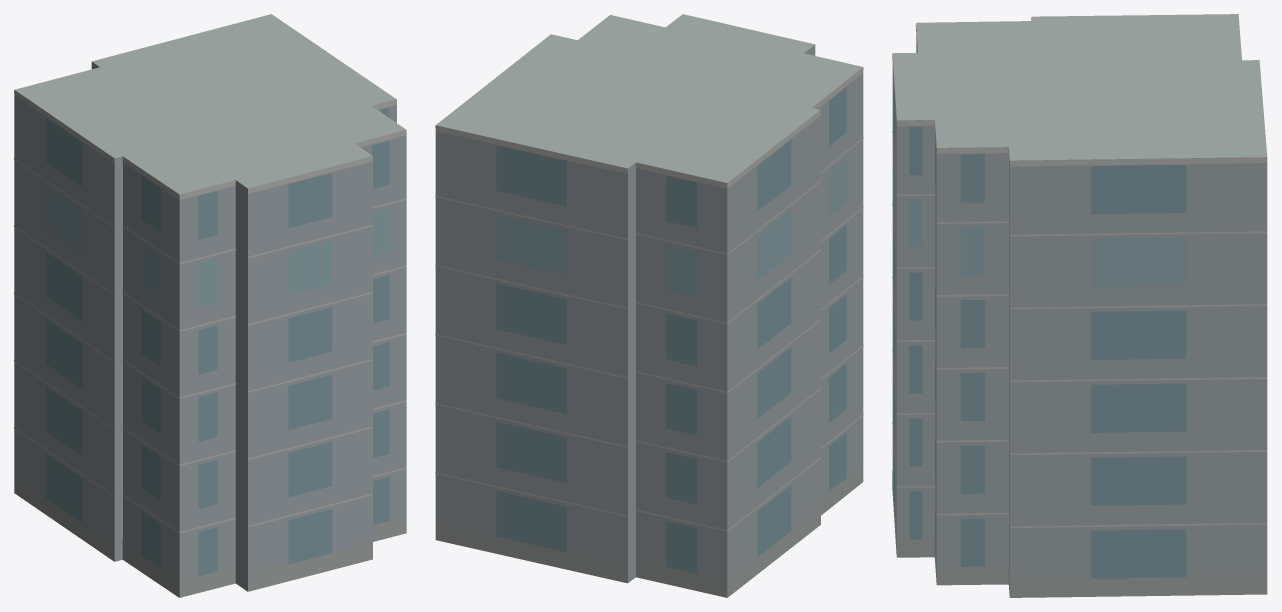
File: survey-upis-32639070.glb
The picture shows the model from 3 angles, left to right: view 1: azimuth 30°, elevation 25°; view 2: azimuth 150°, elevation 25°; view 3: azimuth 270°, elevation 25°; orthographic projection. The views are drawn at different scales.
Parts seen in each view (by area): view 1: survey-upis-32639070.tmp; view 2: survey-upis-32639070.tmp; view 3: survey-upis-32639070.tmp.
Boxes of the visible parts, x1,y1,x2,y2 form: survey-upis-32639070.tmp: (14,14,406,597); survey-upis-32639070.tmp: (435,14,863,597); survey-upis-32639070.tmp: (892,14,1267,597).
Size of the model in its own units: 12.82 by 17.8 by 13.85.
